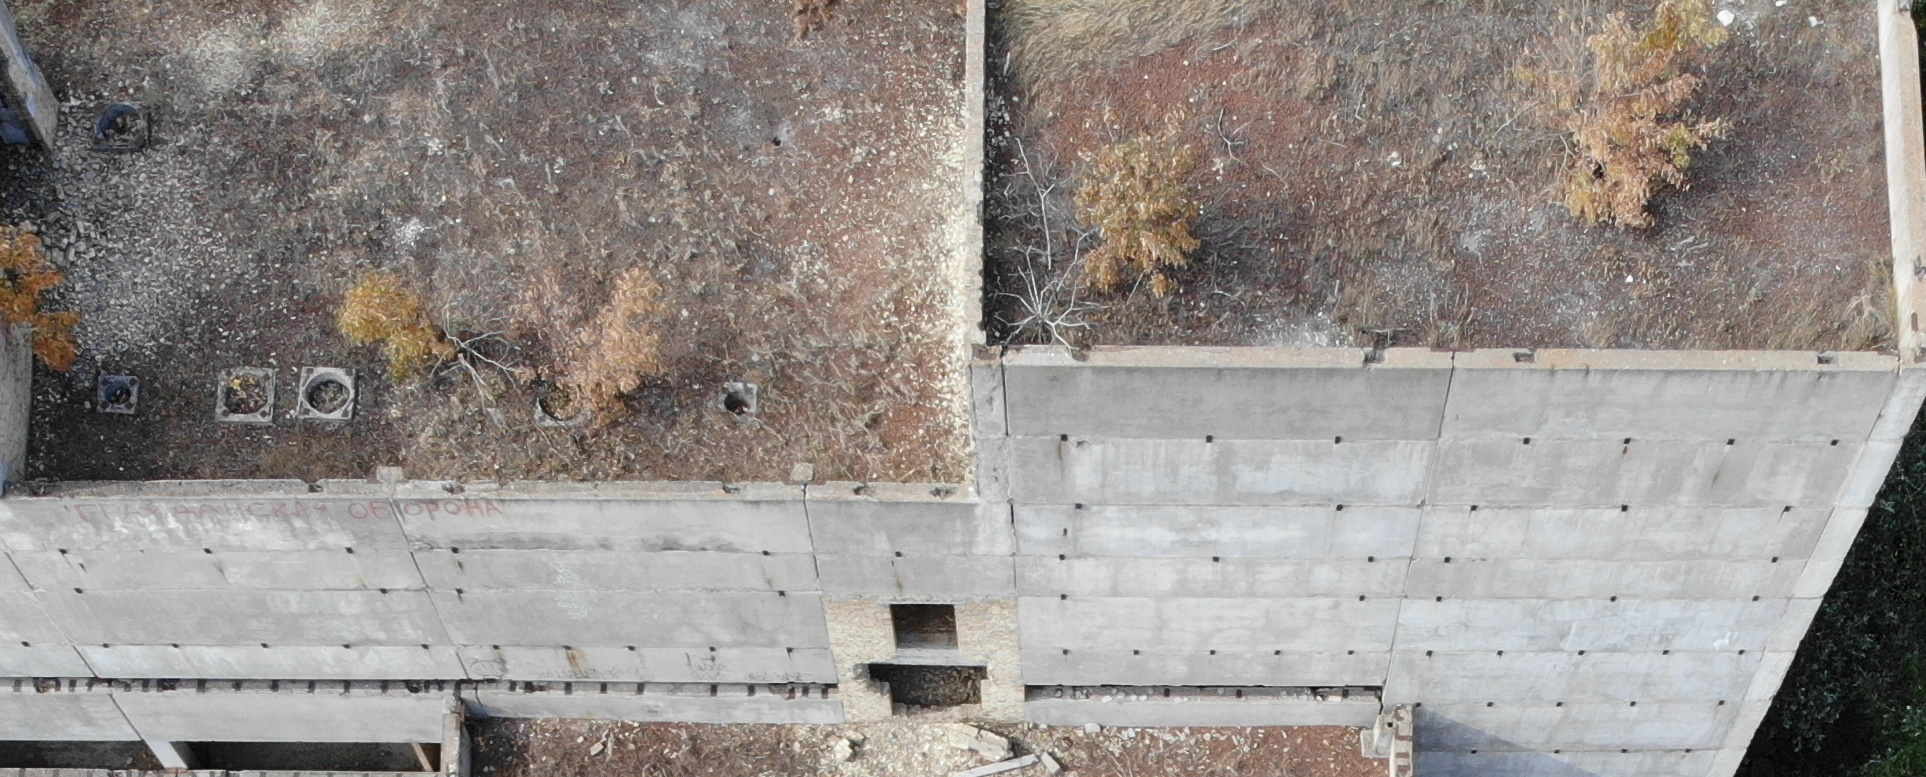tree: (1510, 2, 1728, 223), (491, 249, 669, 471), (1062, 136, 1215, 327), (337, 241, 462, 411)
